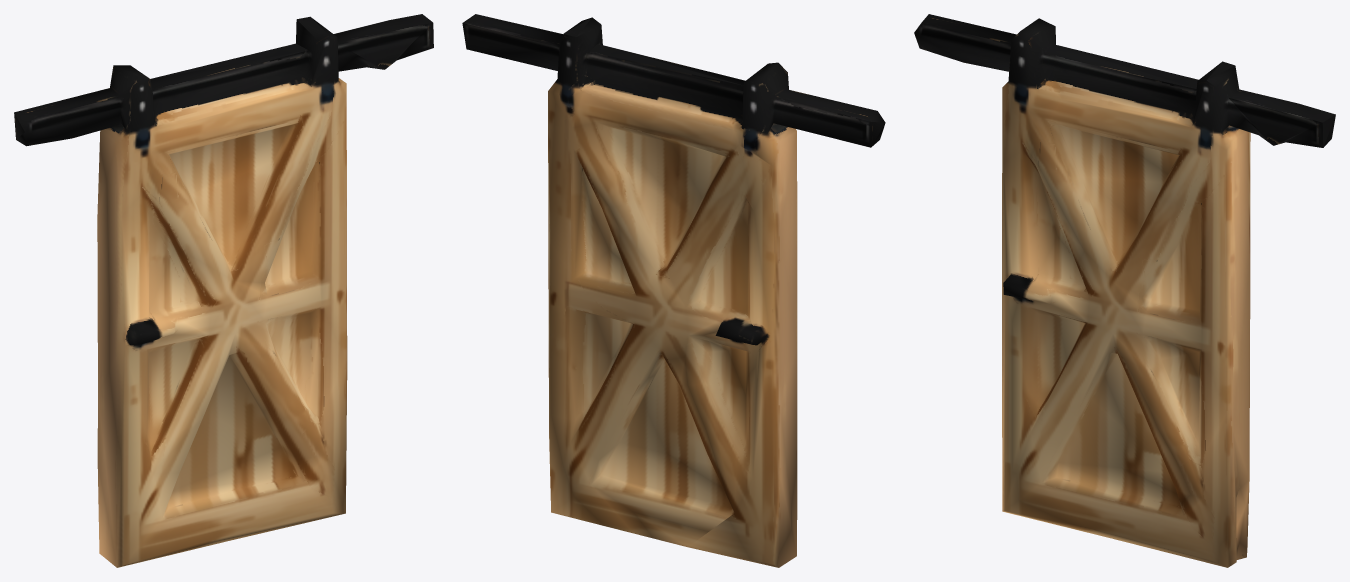
Rendered from sliding-barn-door.glb.
3 views of the same model, side by side, from view 1: azimuth 30°, elevation 25°; view 2: azimuth 150°, elevation 25°; view 3: azimuth 330°, elevation 25° (orthographic).
Visible parts, largest first — view 1: geometry_0.001; view 2: geometry_0.001; view 3: geometry_0.001.
Part boxes in pixels (left/top/right/bottom): geometry_0.001: left=14, top=14, right=433, bottom=567; geometry_0.001: left=462, top=14, right=885, bottom=567; geometry_0.001: left=914, top=14, right=1335, bottom=567.
Size of the model in its own units: 0.8786 by 0.9996 by 0.1559.
Materials: 1 (1 with a texture image).
